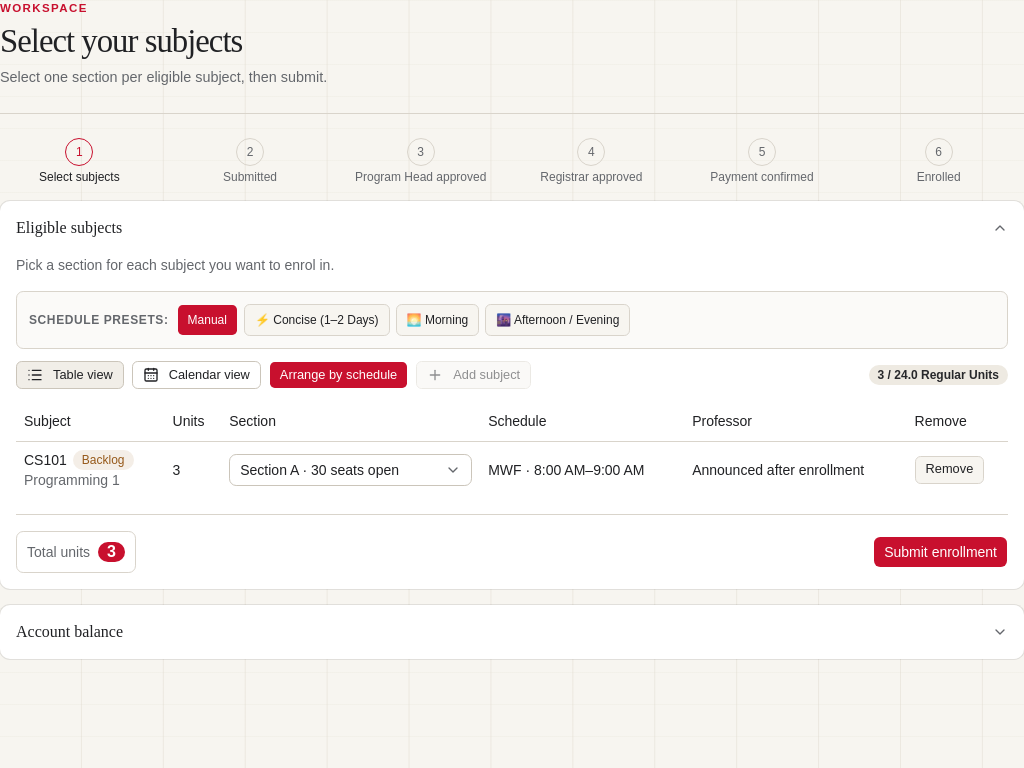
Test: EnrollmentWorkspace › clears the persisted draft once the enrollment is submitted
Click the dropdown named "CS101 section" at {"x": 351, "y": 470}, box top-left (229, 454), bottom-right (472, 486)
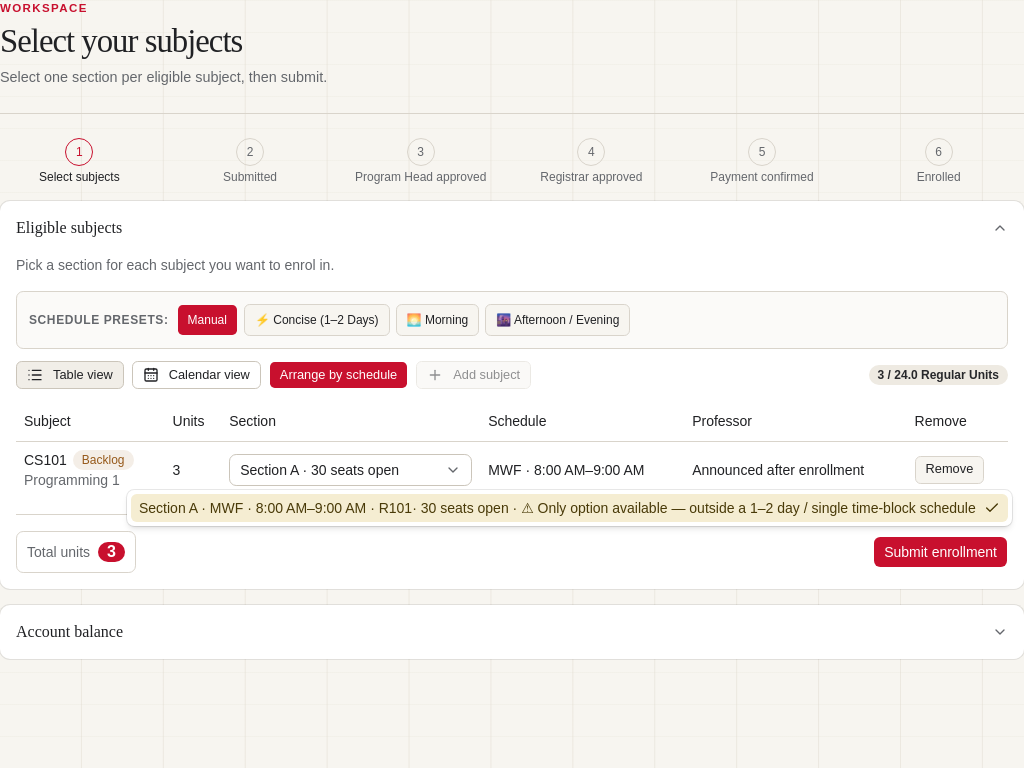
Click the option "Section A" at {"x": 569, "y": 508}, box top-left (131, 494), bottom-right (1008, 522)
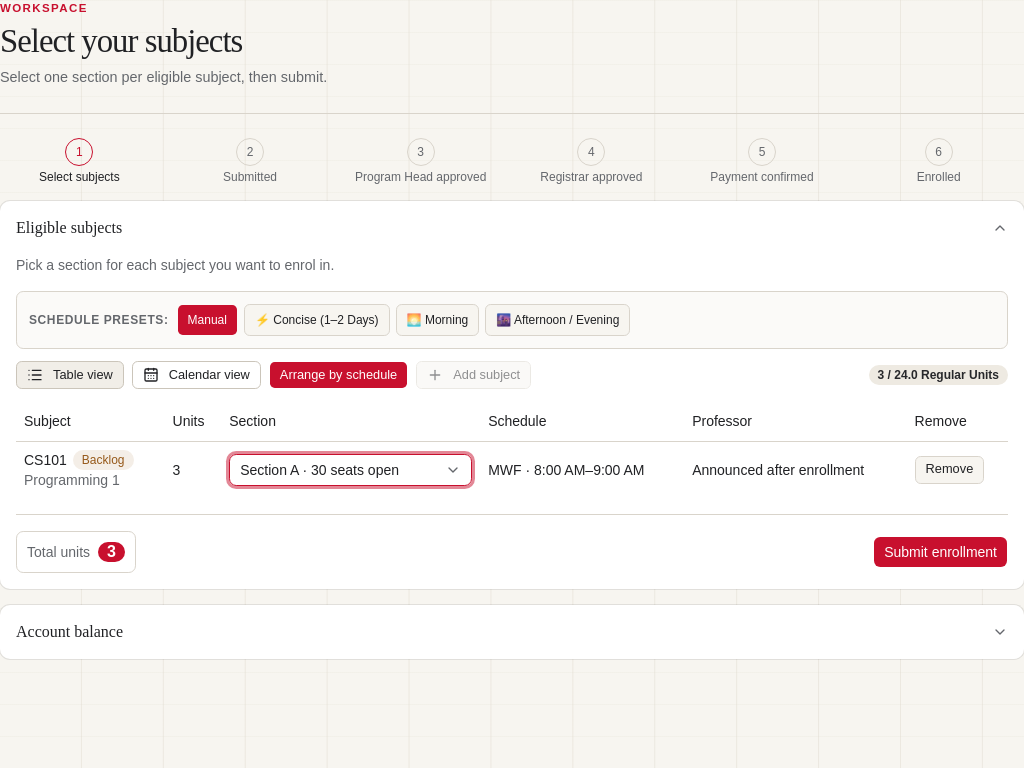
Click the button "Submit enrollment" at {"x": 941, "y": 552}, box top-left (873, 536), bottom-right (1008, 568)
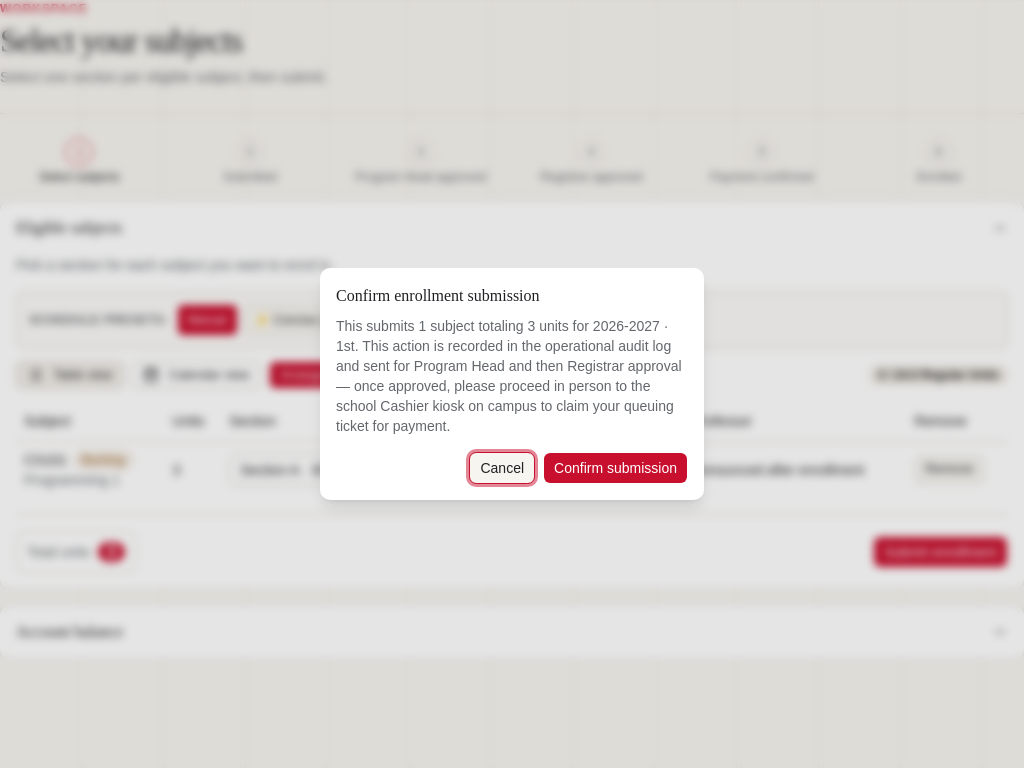
Click the button "Confirm submission" at {"x": 616, "y": 468}, box top-left (543, 452), bottom-right (688, 484)
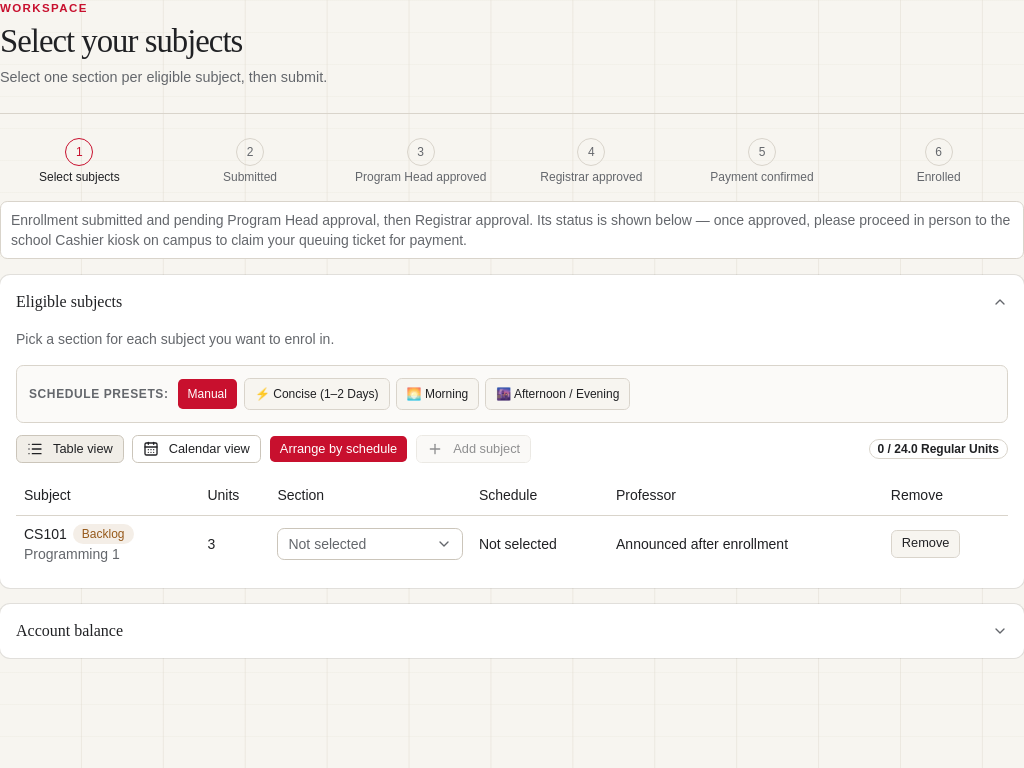
Result: the text "pending Program Head approval" is shown at top-left (11, 212), bottom-right (1010, 248)
